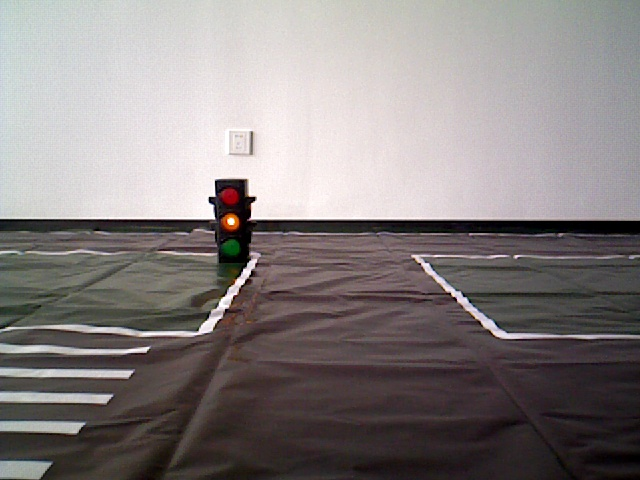yellow: (209, 176, 253, 268)
